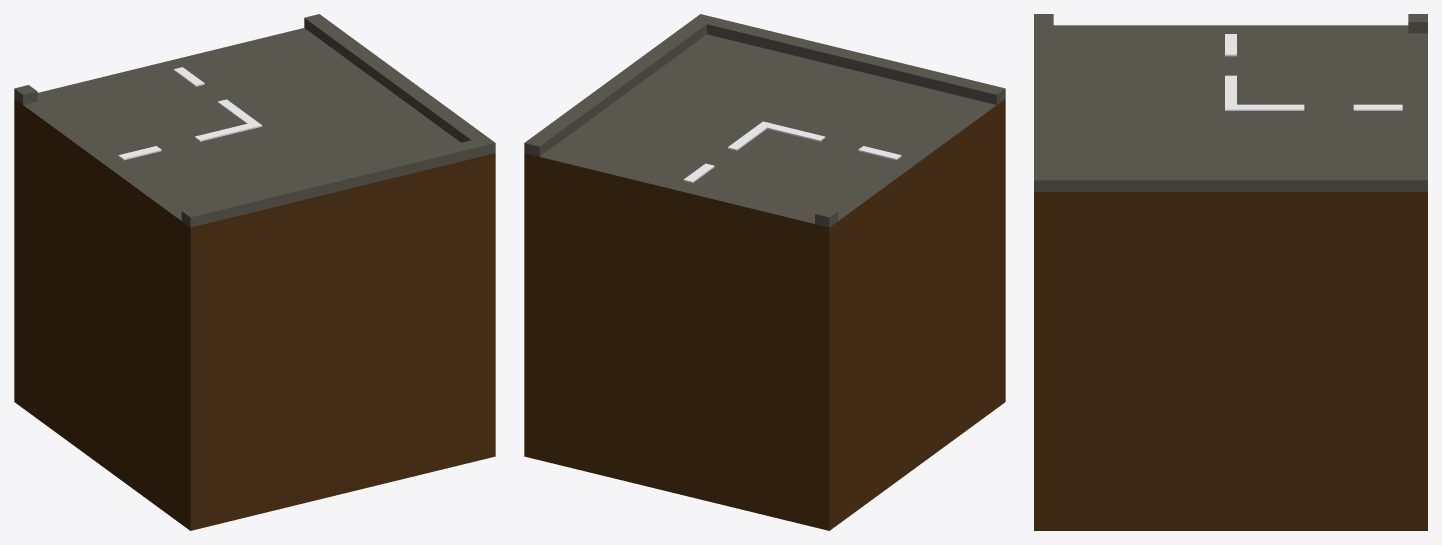
Rendered from CityRoadCurveCube.fbx.
3 renders of one model, left to right at view 1: azimuth 30°, elevation 25°; view 2: azimuth 150°, elevation 25°; view 3: azimuth 270°, elevation 25°, orthographic. The views are drawn at different scales.
Parts seen in each view (by area): view 1: CityRoadCurveCube; view 2: CityRoadCurveCube; view 3: CityRoadCurveCube.
Boxes of the visible parts, bbox=[...] form: CityRoadCurveCube: bbox=[14, 14, 495, 530]; CityRoadCurveCube: bbox=[524, 14, 1005, 530]; CityRoadCurveCube: bbox=[1034, 14, 1427, 530].
Bounding box in the file's own units: 1 × 0.9818 × 1.
